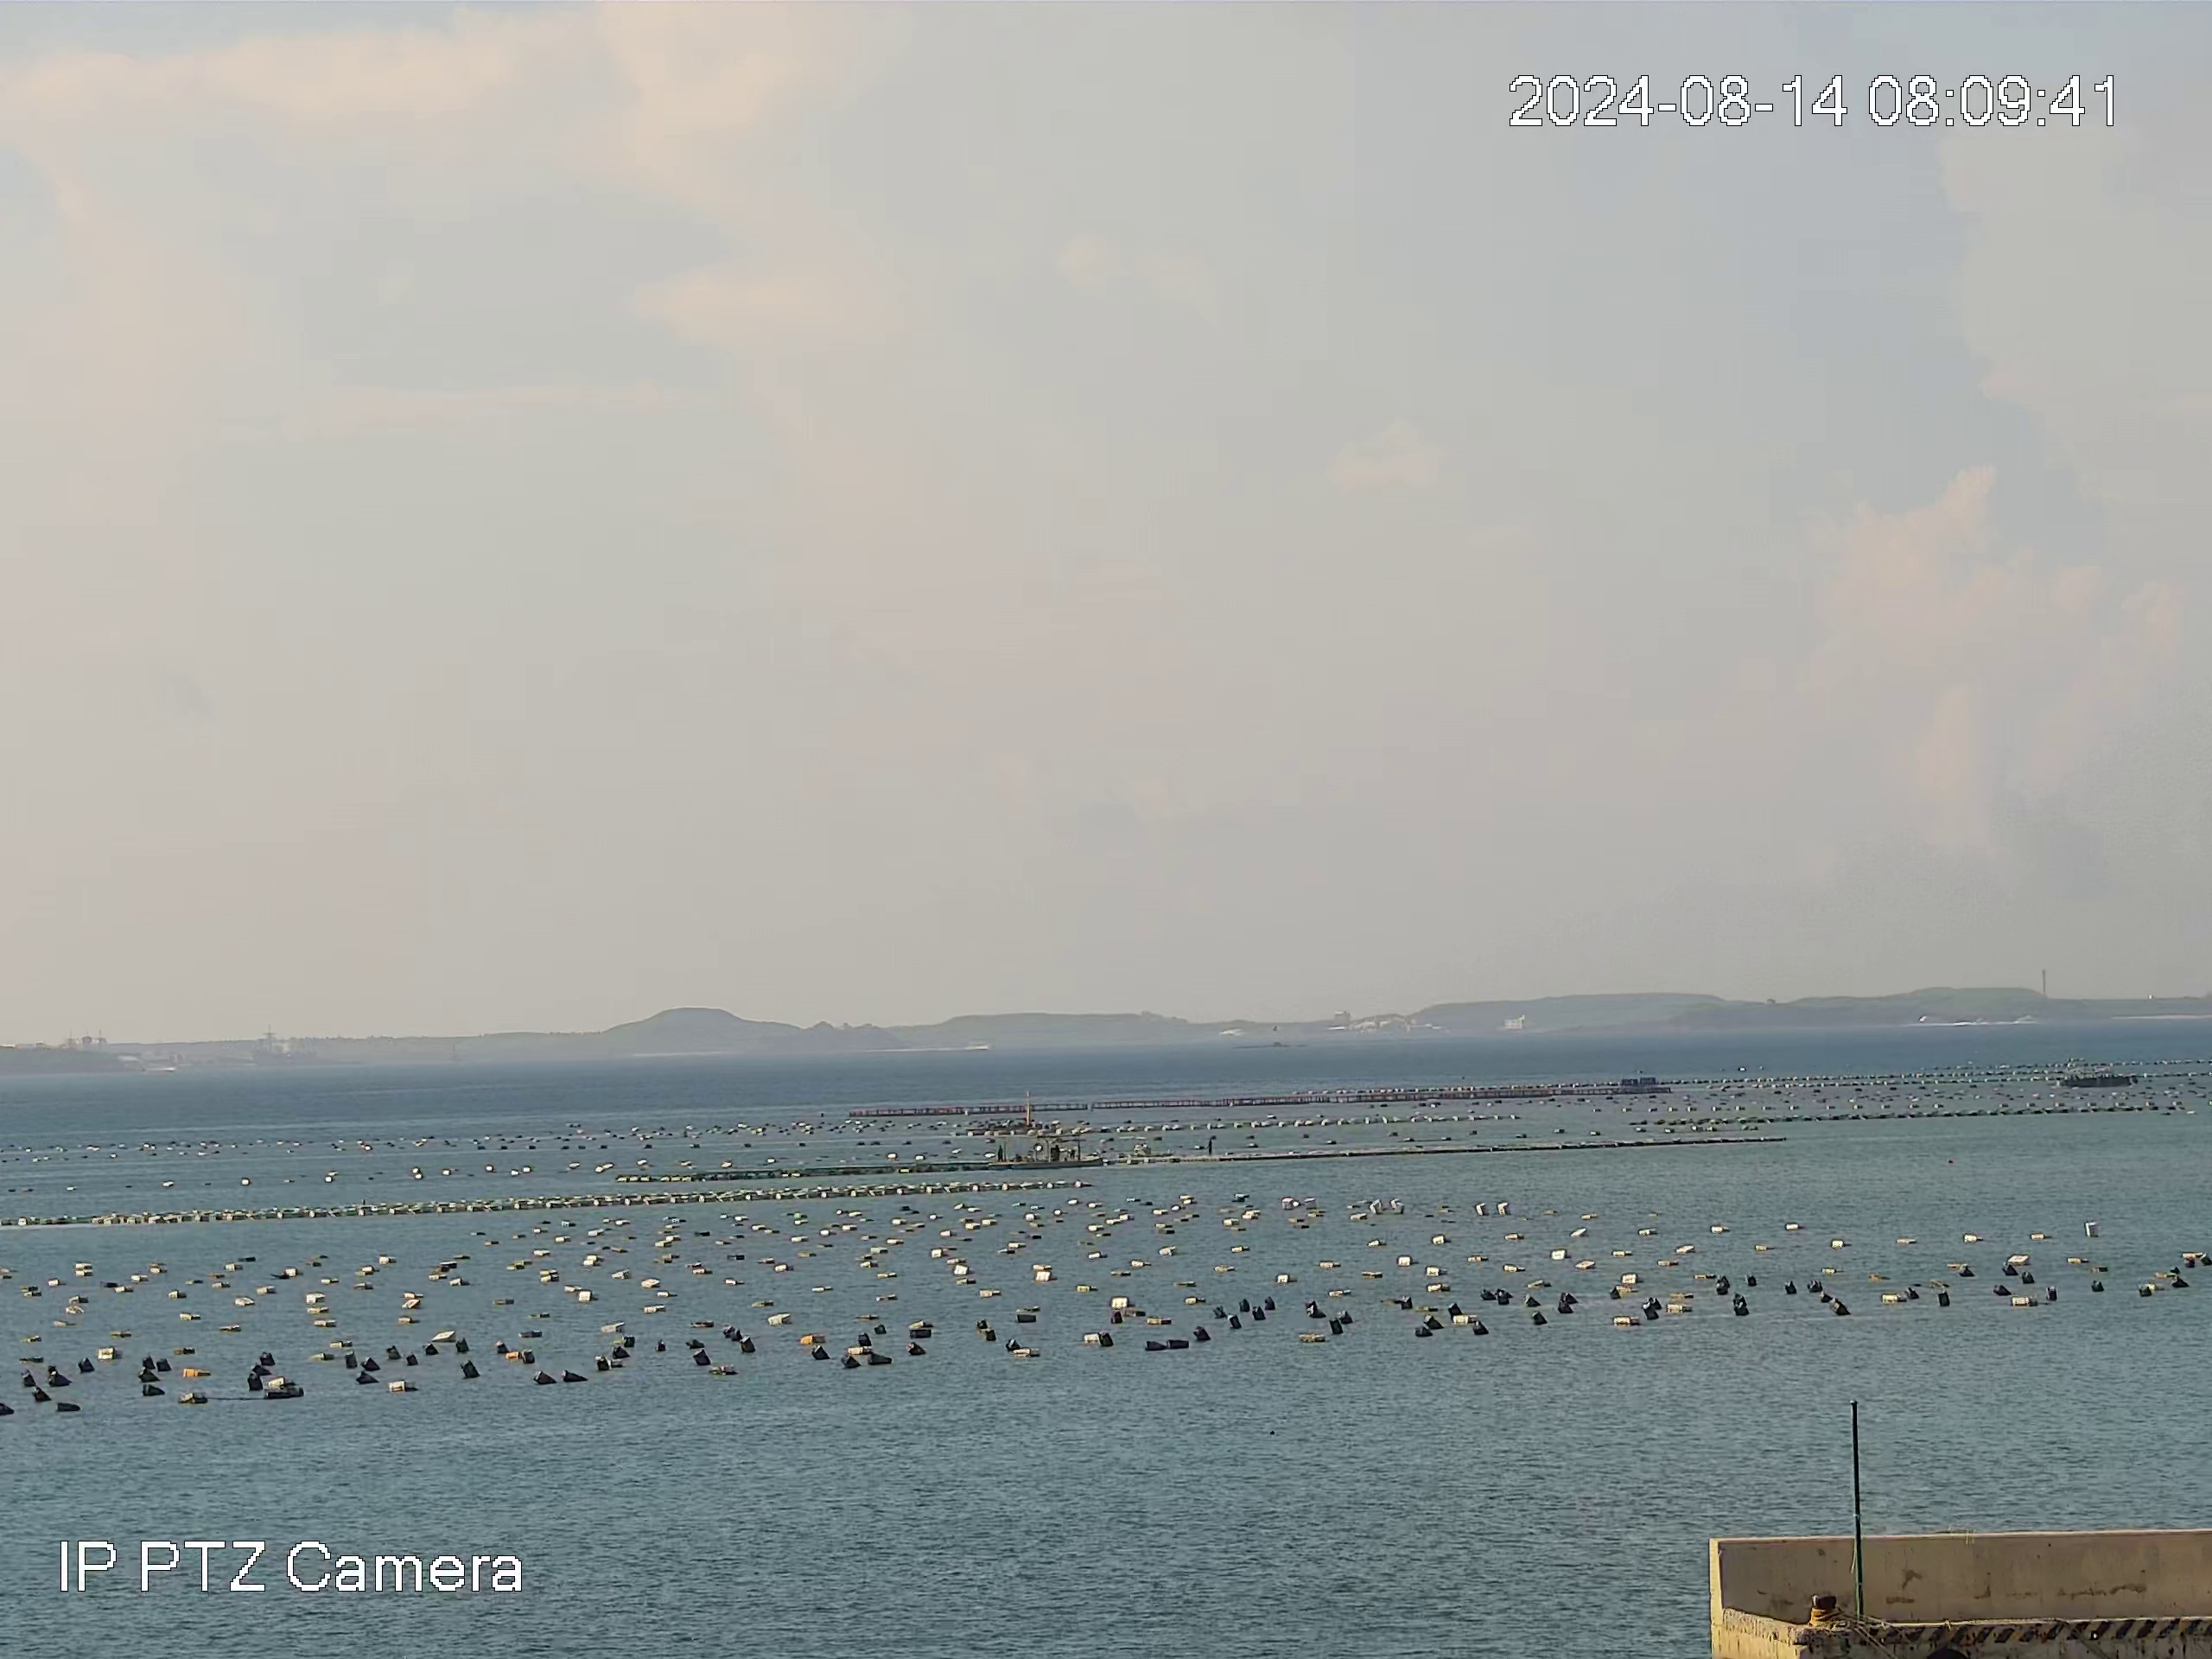boat: (991, 1130, 1096, 1171), (2059, 1063, 2143, 1091)
